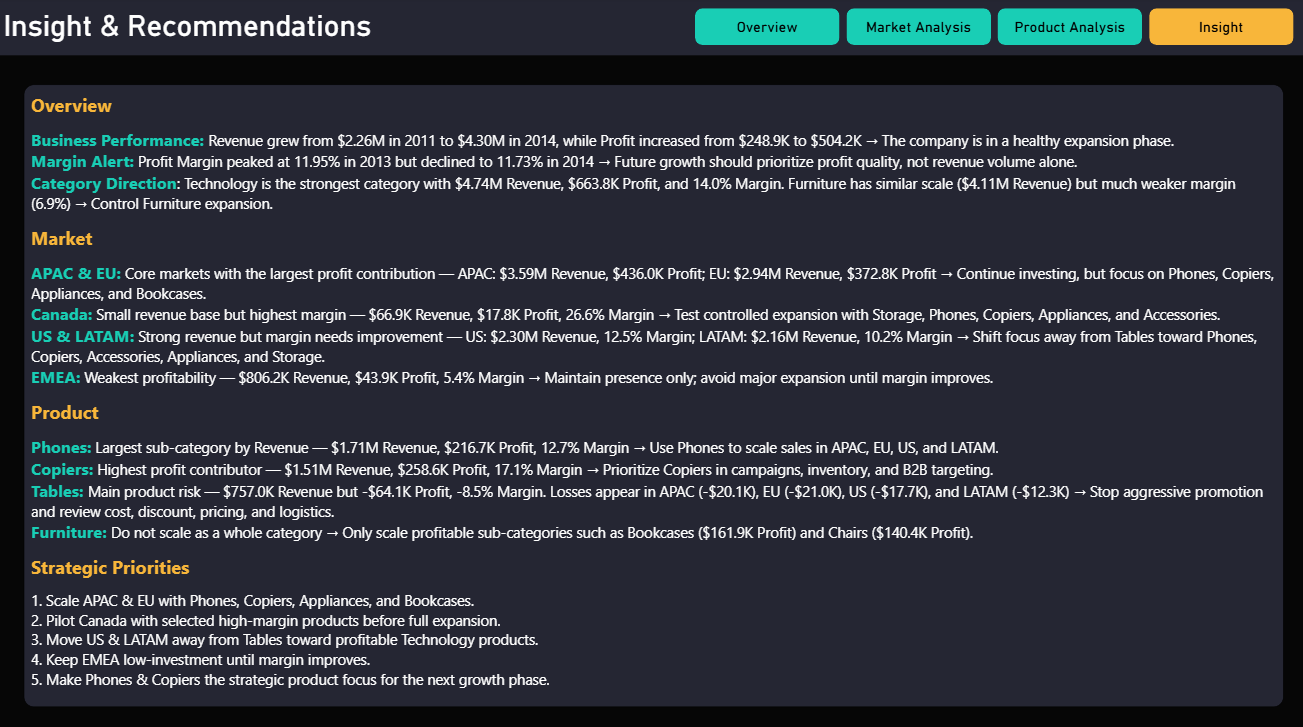

This screenshot's page, from the dashboard's own definition file:
{"tool":"powerbi","page":{"name":"Insight & Recommendation ","canvas":[1280,720],"ordinal":3},"visuals":[{"type":"textbox","box":[0,0,479.4,671.3],"z":0},{"type":"shape","box":[0,0,951.4,421.9],"z":1000},{"type":"textbox","box":[479.4,0,621.2,671.3],"z":2000}]}

Visuals, with their boxes in screenshot pixels (x1, y1, x2, y2), scaled from the page's 1280x720 canvas onto the 1303x727 screenshot:
textbox: bbox=[0, 0, 488, 678]
shape: bbox=[0, 0, 968, 426]
textbox: bbox=[488, 0, 1120, 678]
